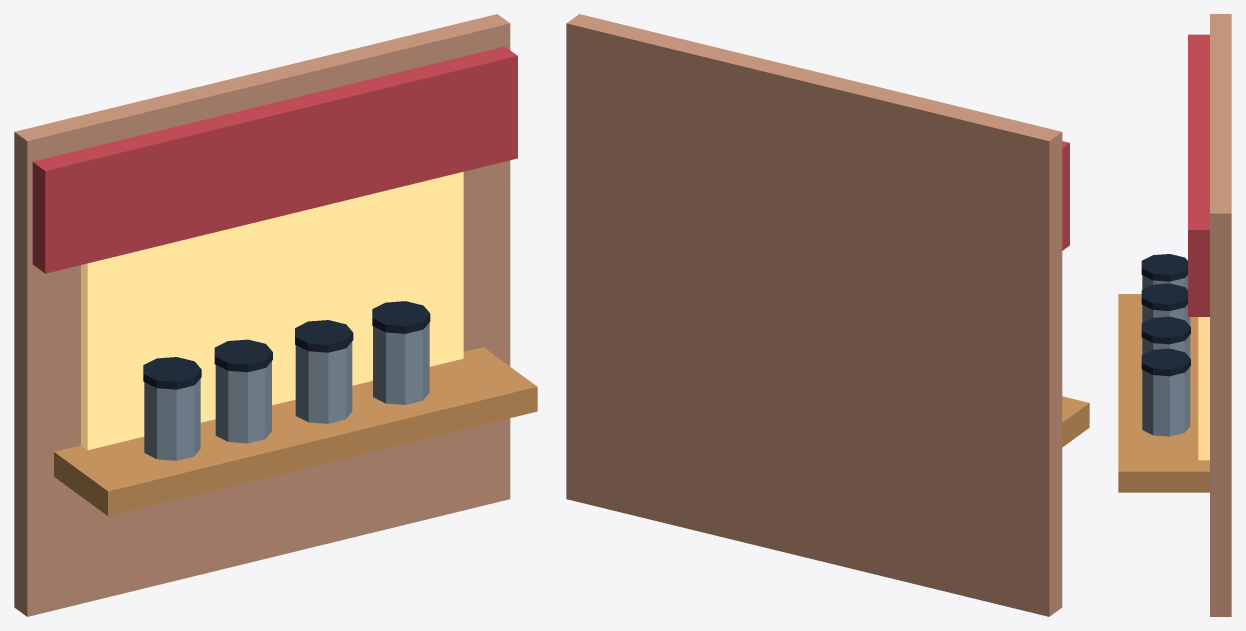
The model's file is tea_hatch.glb.
3 renders of one model, left to right at view 1: azimuth 30°, elevation 25°; view 2: azimuth 150°, elevation 25°; view 3: azimuth 270°, elevation 25°, orthographic. The views are drawn at different scales.
Parts seen in each view (by area): view 1: tea_hatch; view 2: tea_hatch; view 3: tea_hatch.
Part boxes in pixels (x1,y1,x2,y2): tea_hatch: (14,14,537,616); tea_hatch: (566,14,1089,616); tea_hatch: (1118,14,1231,616).
Bounding box in the file's own units: 3.25 × 3.06 × 0.78.
